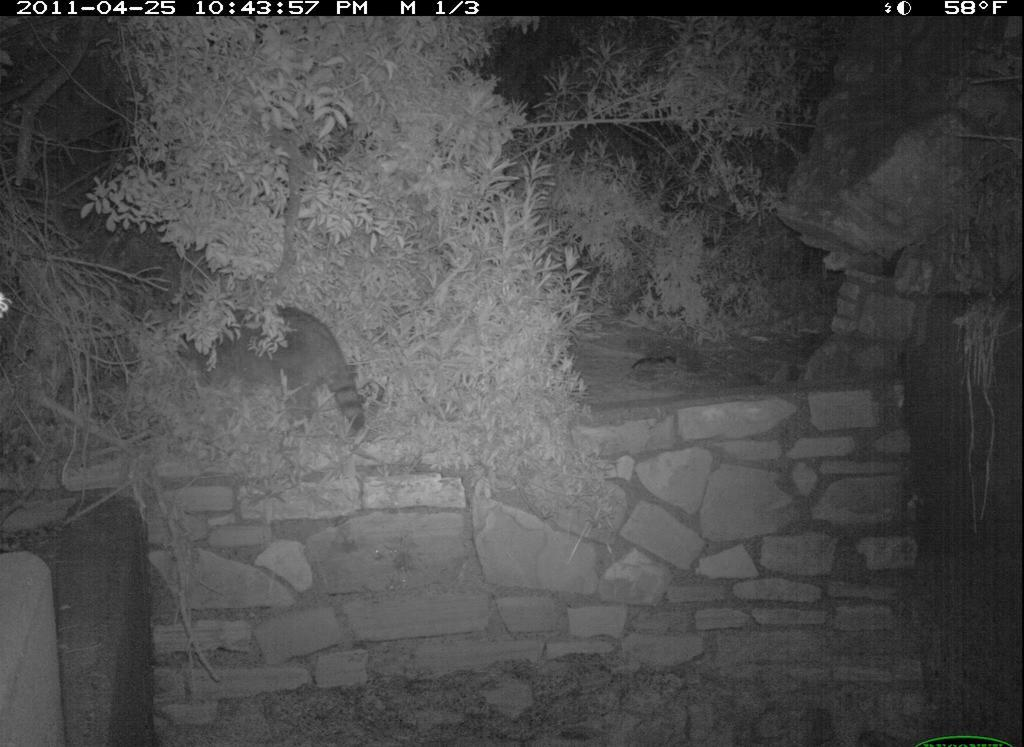raccoon: (168, 276, 383, 442)
